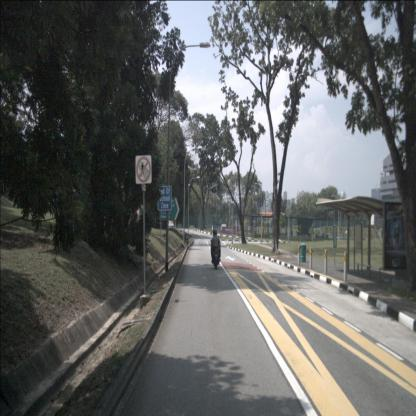vehicle-motorcycle: (210, 228, 221, 270)
